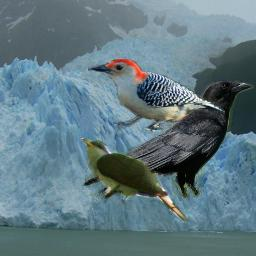Crow: (82, 80, 254, 200)
Cuckoo: (79, 138, 189, 222)
Woodpecker: (88, 59, 225, 134)
